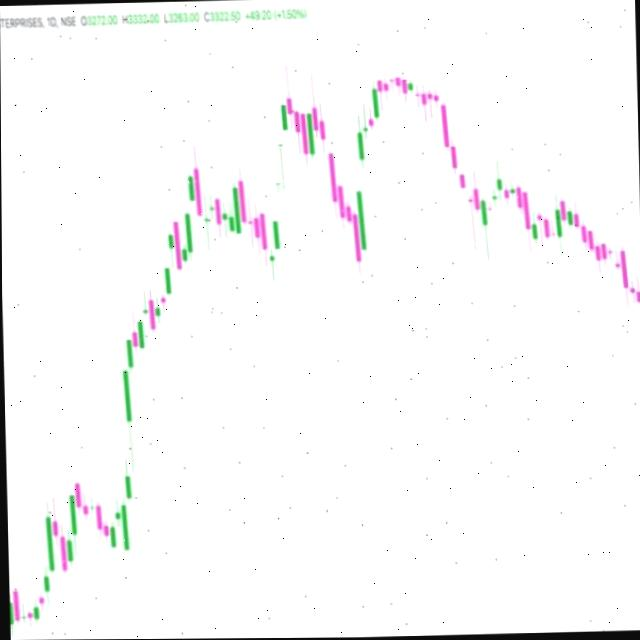Gap Up: (111, 364, 150, 517), (268, 106, 298, 264), (354, 129, 379, 255)
